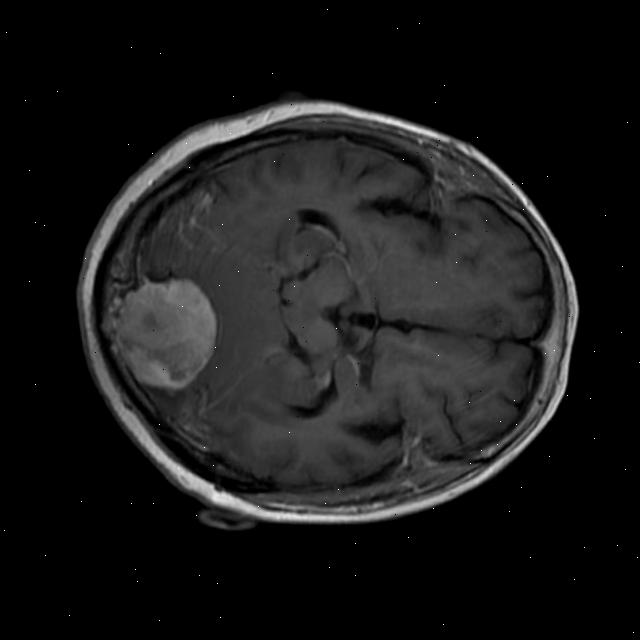Meningioma: (102, 268, 226, 399)
